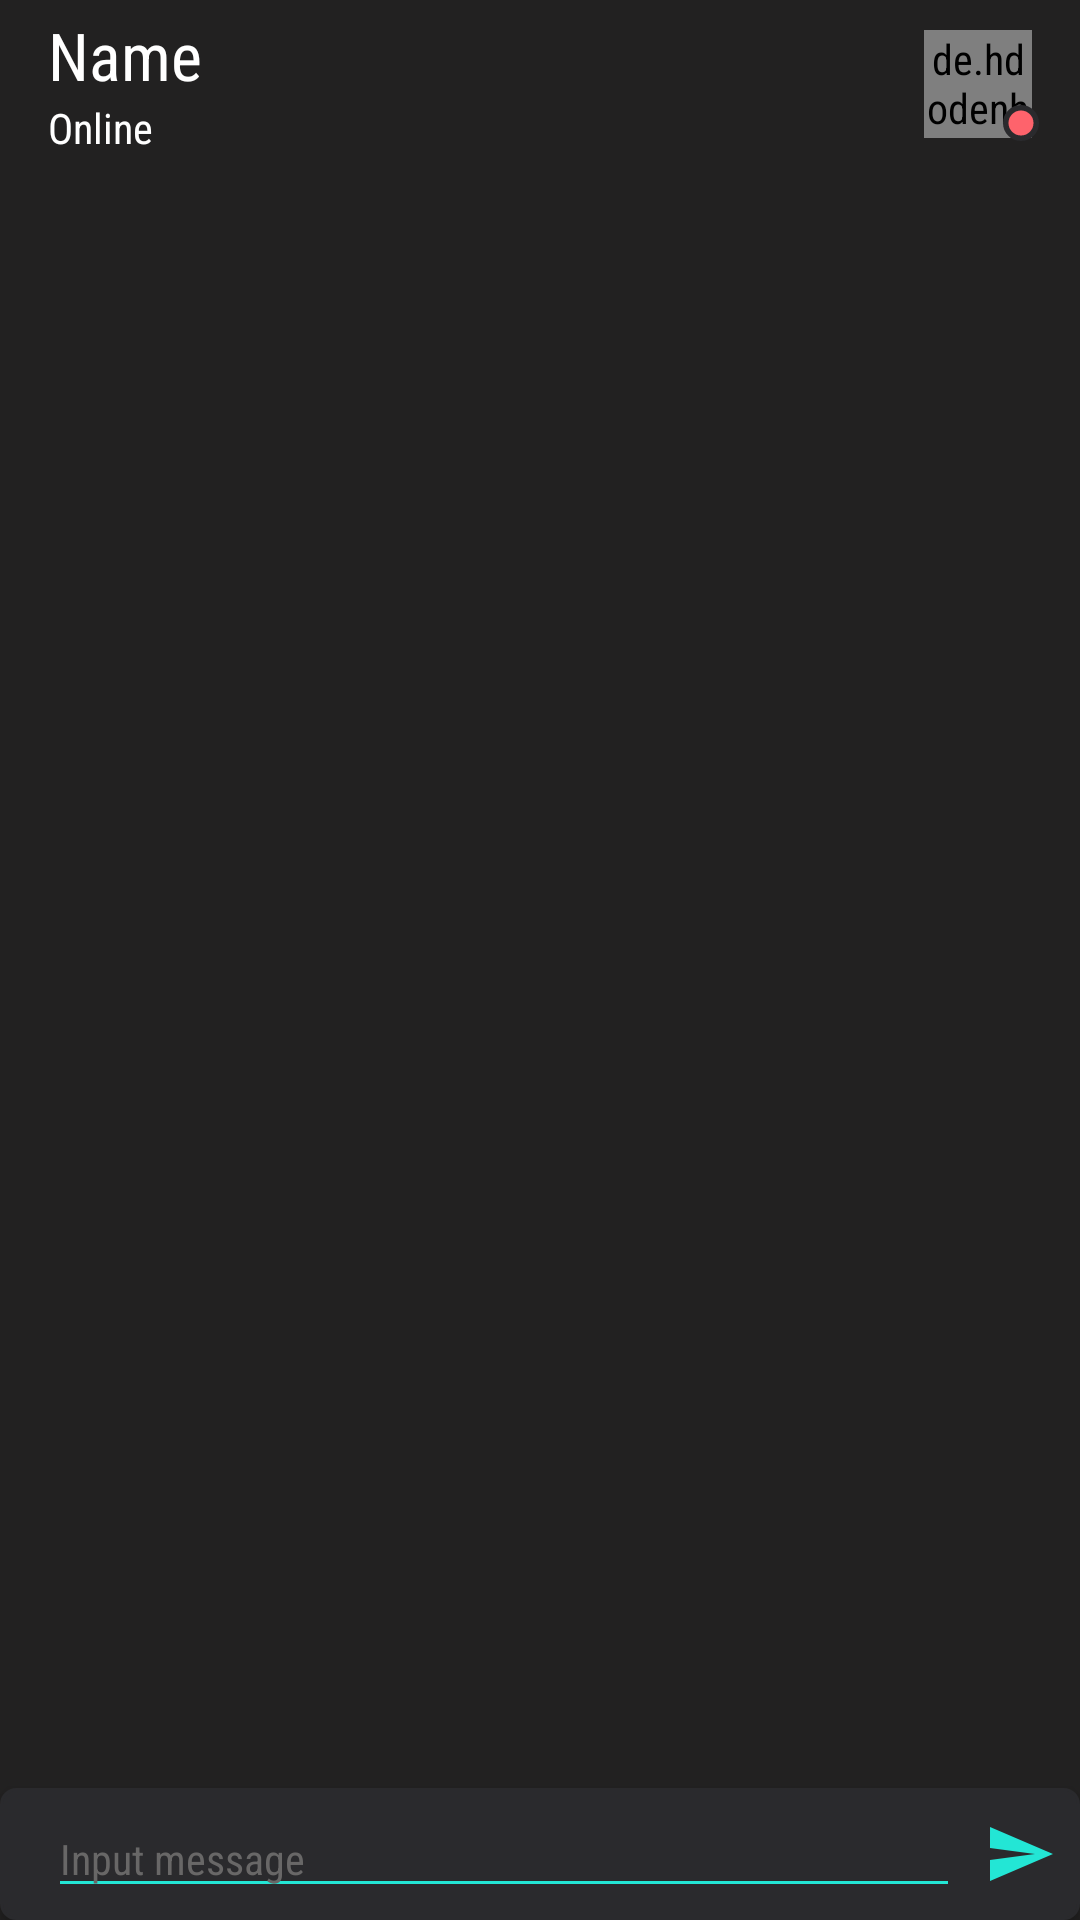

Named icons in this screenshot (1080x1920) and their bounding boxes, [x1=x1, y1=y1, x2=x2, y2=y2]:
send: [x1=990, y1=1827, x2=1053, y2=1881]
